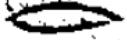Mouth: (5, 1, 122, 34)
